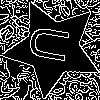U: (27, 22, 79, 66)
